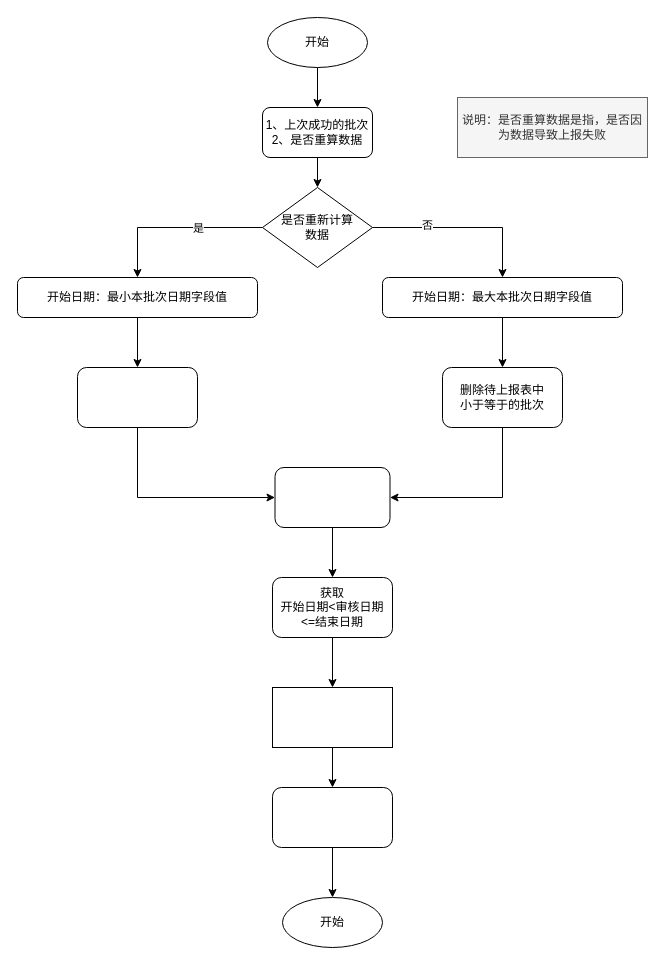
The diagram is 665 pixels wide and 965 high, and some of its shapes have lost their labels. Here are the shapes that lost their labels. From the top down, the centre of each, then its label:
point (137, 397): 删除待上报表中 所有数据
point (332, 497): 结束日期：当前时>20:00?当天：前一天
point (332, 717): 存到待上报表中
point (332, 817): 获取待上报表中所有数据
